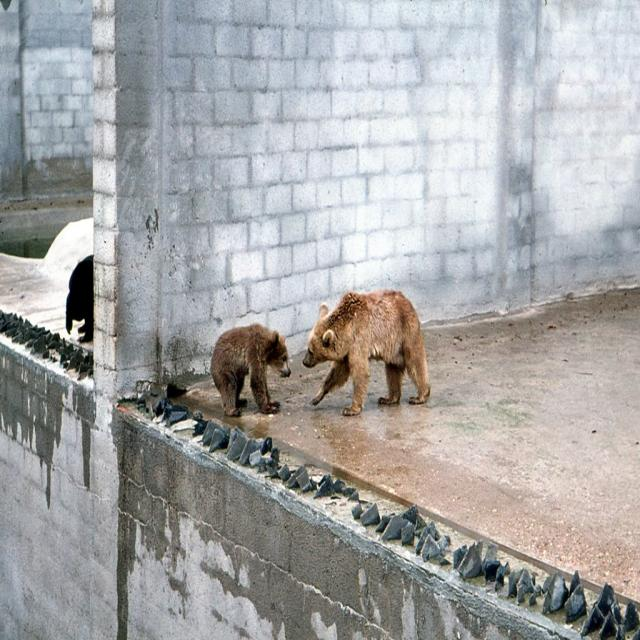Cheetahs: (302, 286, 432, 416), (206, 320, 292, 418)
